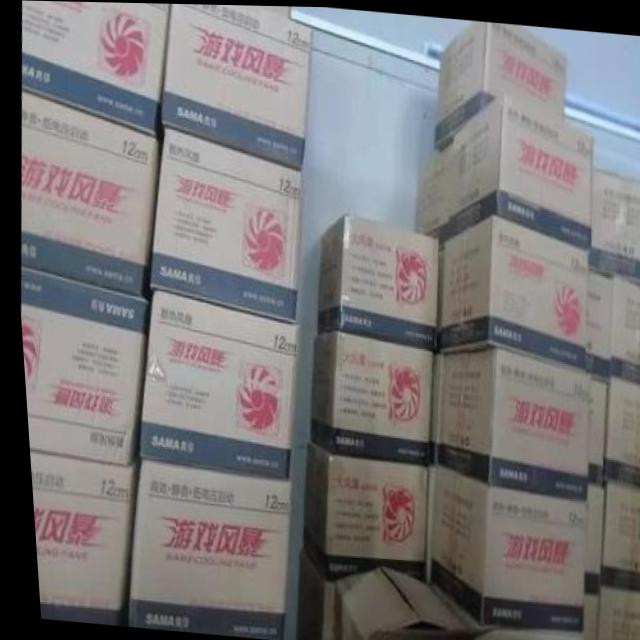box: (133, 290, 294, 479), (145, 126, 298, 321), (120, 459, 285, 638), (412, 90, 592, 249), (17, 93, 159, 294), (423, 462, 578, 634), (16, 265, 145, 463), (159, 3, 311, 168), (423, 344, 582, 499), (431, 214, 586, 365), (20, 0, 169, 135), (24, 451, 130, 626), (293, 440, 420, 582), (431, 18, 565, 147), (303, 328, 426, 463), (311, 213, 433, 348), (326, 564, 471, 640), (584, 167, 640, 280), (593, 477, 640, 590), (597, 372, 640, 489), (603, 273, 640, 383), (288, 549, 327, 640), (588, 583, 640, 640), (581, 268, 607, 372), (581, 371, 604, 484), (576, 483, 597, 591), (465, 626, 574, 640), (575, 591, 591, 640)
